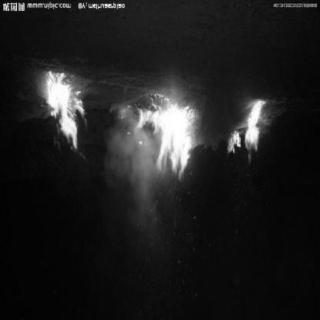Fire: (228, 124, 240, 164)
